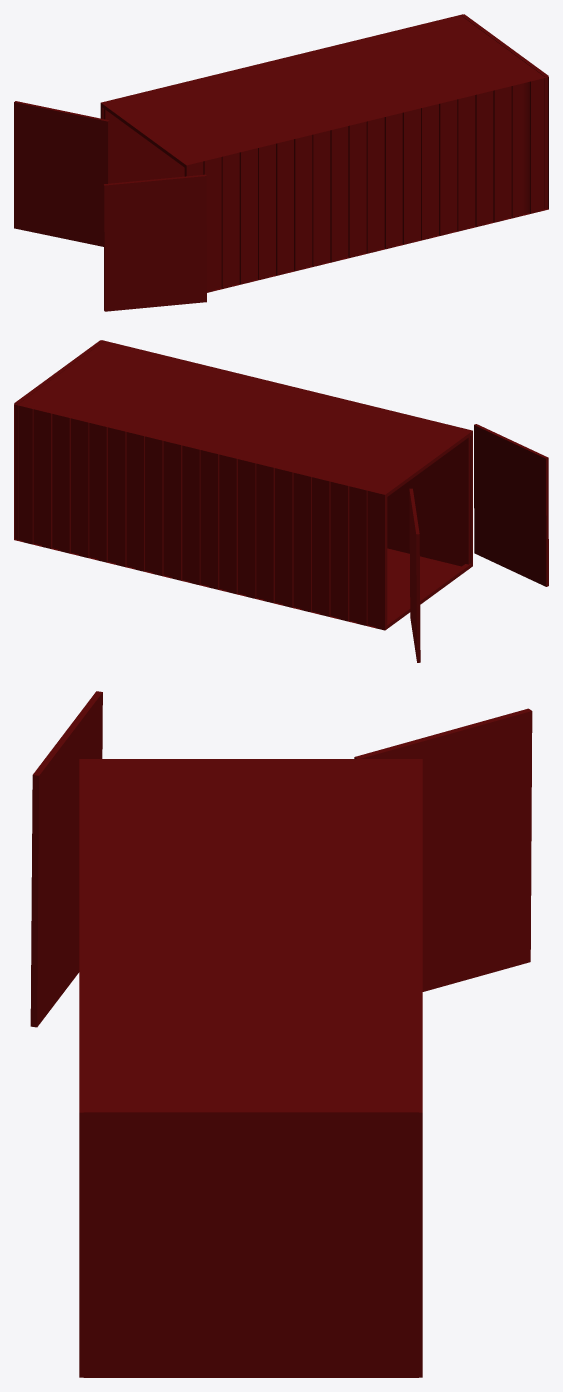
File: container-red.FBX
3 renders of one model, top to bottom at view 1: azimuth 30°, elevation 25°; view 2: azimuth 150°, elevation 25°; view 3: azimuth 270°, elevation 25°, orthographic. The views are drawn at different scales.
Parts seen in each view (by area): view 1: Box002, Box003, Box004, Box007, Box009; view 2: Box002, Box003, Box008, Plane001, Box004, Box009; view 3: Box002, Box009, Box004, Box003.
Boxes of the visible parts, x1,y1,x2,y2 form: Box002: [100, 14, 548, 292]; Box003: [103, 174, 206, 311]; Box004: [14, 101, 109, 246]; Box007: [103, 108, 184, 183]; Box009: [461, 14, 548, 209]; Box002: [14, 340, 472, 630]; Box003: [474, 424, 548, 586]; Box008: [387, 436, 470, 566]; Plane001: [18, 540, 461, 627]; Box004: [409, 488, 420, 662]; Box009: [14, 340, 103, 539]; Box002: [79, 759, 422, 1377]; Box009: [83, 1108, 418, 1377]; Box004: [354, 708, 532, 991]; Box003: [30, 691, 102, 1027].
Bounding box in the file's own units: 140 × 40.38 × 69.06.
